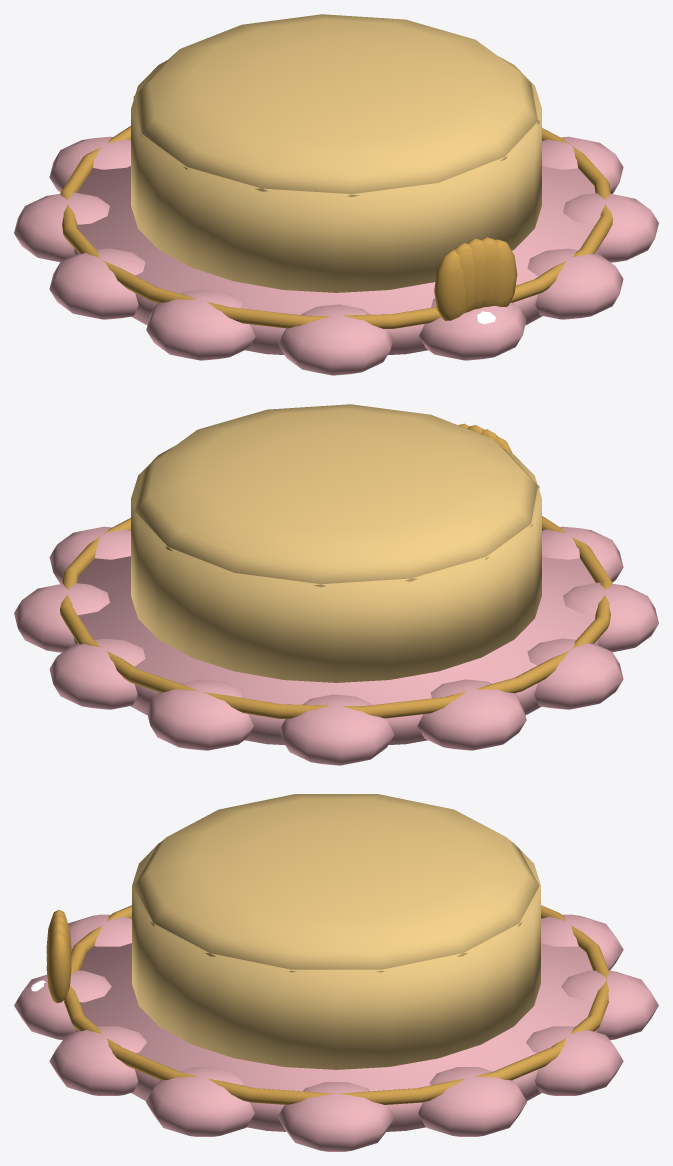
File: opera_pastry_chef_layer_vanilla.glb
3 renders of one model, top to bottom at view 1: azimuth 30°, elevation 25°; view 2: azimuth 150°, elevation 25°; view 3: azimuth 270°, elevation 25°, orthographic.
Parts seen in each view (by area): view 1: VisualMesh; view 2: VisualMesh; view 3: VisualMesh.
Boxes of the visible parts, x1,y1,x2,y2 form: VisualMesh: (14, 14, 658, 375); VisualMesh: (14, 404, 658, 765); VisualMesh: (14, 794, 658, 1151).
Bounding box in the file's own units: 3.69 × 1.18 × 3.72.
